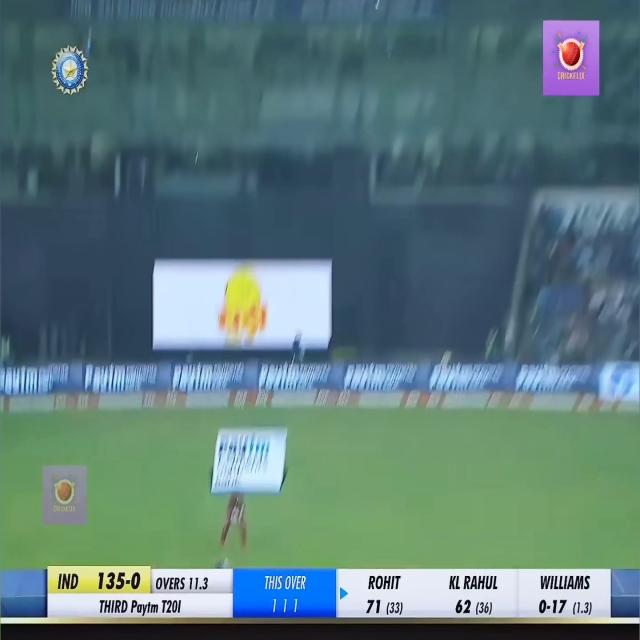fully_visible: (212, 425, 272, 459), (260, 360, 300, 398), (85, 360, 126, 395), (130, 588, 160, 620)
partially_visible: (343, 358, 390, 394), (170, 364, 215, 392), (0, 372, 38, 397)
